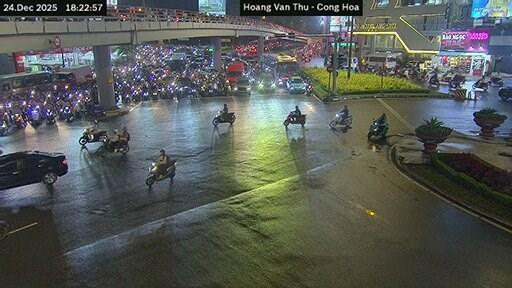motorbike: (146, 160, 176, 187), (77, 127, 106, 144), (102, 136, 128, 151), (368, 120, 387, 138), (282, 111, 304, 126), (329, 112, 352, 126), (211, 111, 233, 125), (58, 104, 73, 121), (28, 107, 41, 126), (448, 73, 464, 88), (86, 103, 105, 115), (13, 112, 25, 127), (0, 220, 9, 239), (499, 85, 511, 98), (45, 108, 54, 124), (0, 118, 7, 135), (473, 81, 486, 90), (490, 76, 502, 85), (428, 76, 438, 86), (306, 82, 312, 94)
